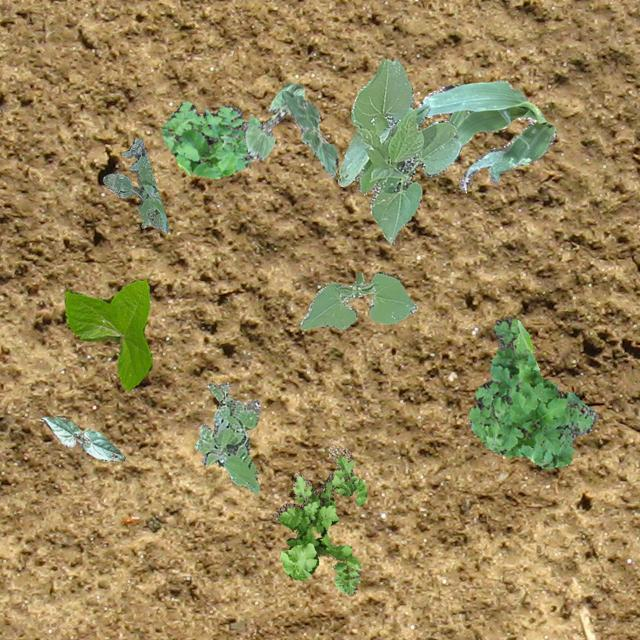crop: (336, 59, 461, 242), (414, 78, 556, 190), (64, 278, 152, 390), (298, 270, 417, 330), (280, 90, 336, 176), (243, 82, 304, 160), (40, 416, 124, 460)
weed: (467, 316, 598, 468), (272, 444, 366, 594), (160, 100, 260, 178), (193, 382, 260, 492), (102, 136, 168, 232)
